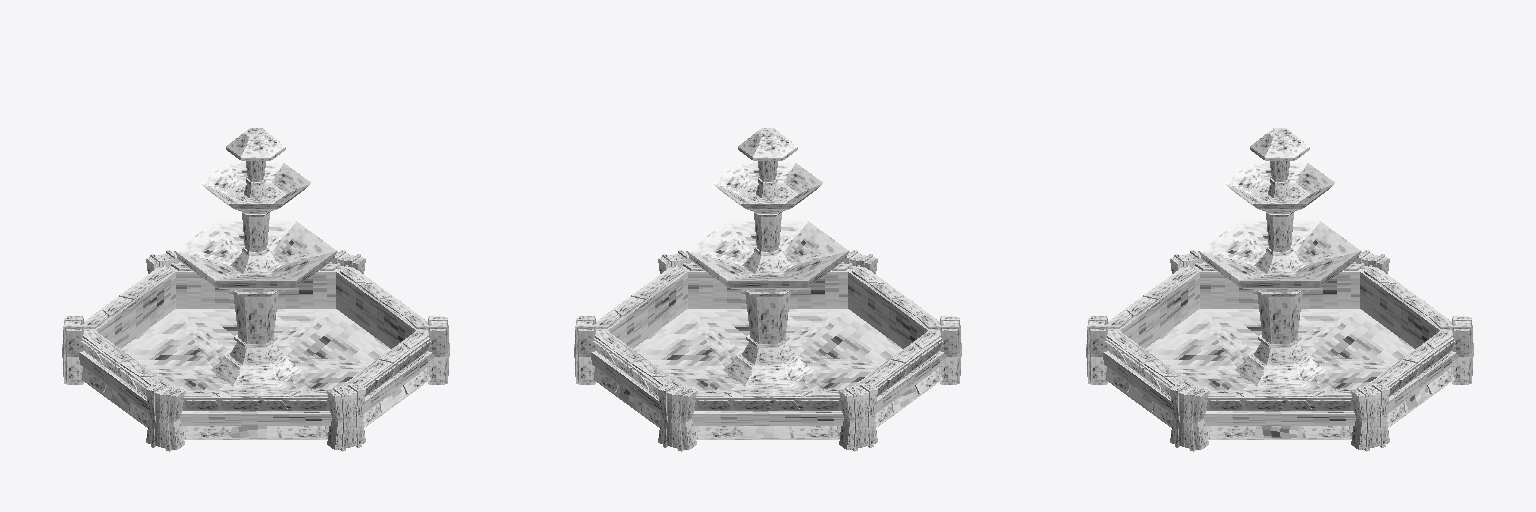
The picture shows the model from 3 angles: view 1: azimuth 30°, elevation 25°; view 2: azimuth 150°, elevation 25°; view 3: azimuth 270°, elevation 25°; orthographic projection.
Visible parts, largest first — view 1: Cylinder_Material.001; view 2: Cylinder_Material.001; view 3: Cylinder_Material.001.
Boxes of the visible parts, <box> form: Cylinder_Material.001: <box>62,128,449,451</box>; Cylinder_Material.001: <box>574,128,961,451</box>; Cylinder_Material.001: <box>1086,128,1473,451</box>.
Size of the model in its own units: 9.78 by 7.7 by 10.98.
1 materials, 1 textured.